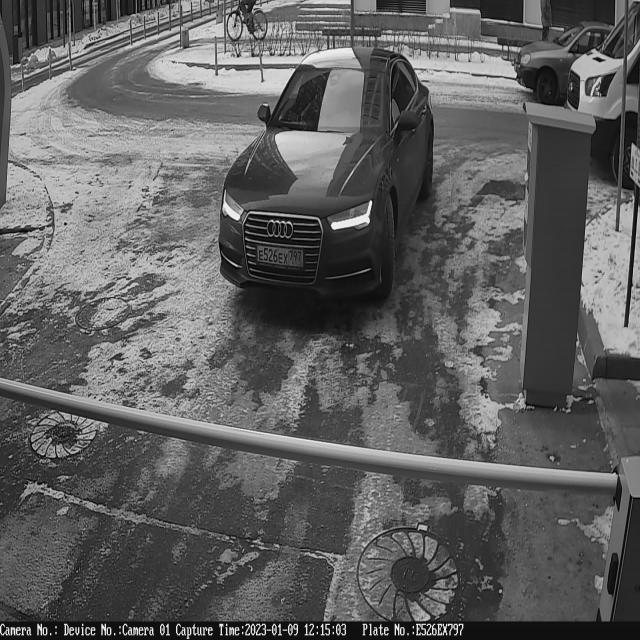car-plate-numbers: (256, 239, 308, 277)
